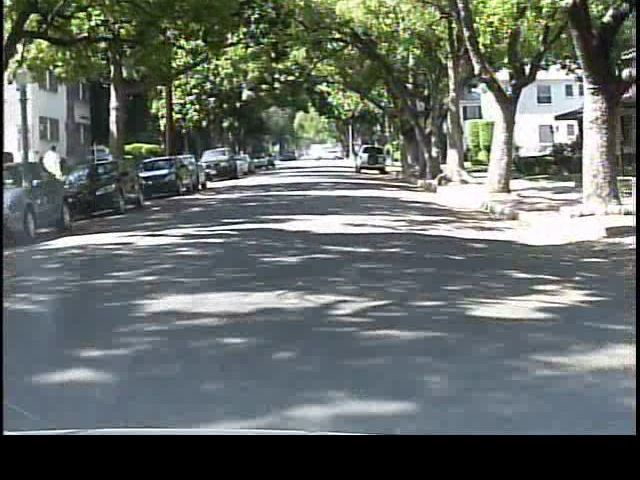person: (42, 139, 69, 202)
